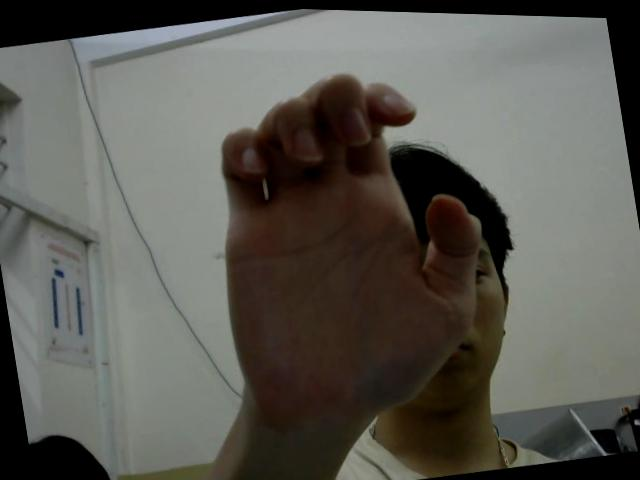E: (189, 46, 507, 436)
